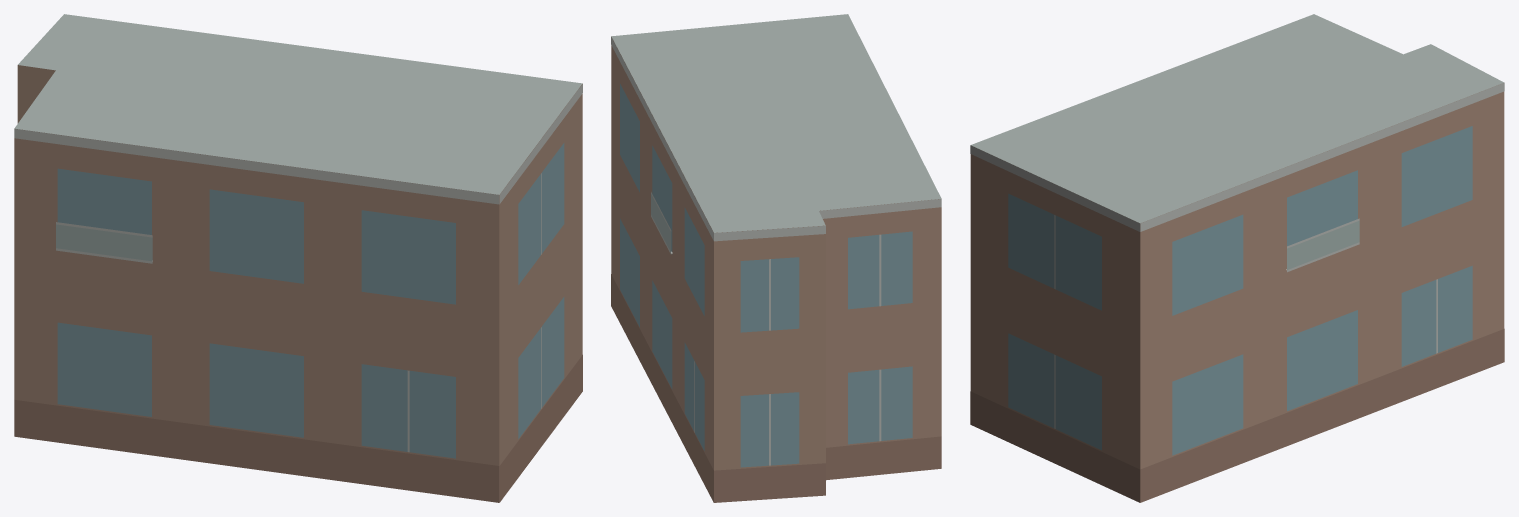
File: survey-upis-32975573.glb
3 renders of one model, left to right at view 1: azimuth 30°, elevation 25°; view 2: azimuth 150°, elevation 25°; view 3: azimuth 270°, elevation 25°, orthographic. The views are drawn at different scales.
Parts seen in each view (by area): view 1: survey-upis-32975573.tmp; view 2: survey-upis-32975573.tmp; view 3: survey-upis-32975573.tmp.
Part boxes in pixels (box(x1,y1,x2,y2)): survey-upis-32975573.tmp: box(14, 14, 582, 502); survey-upis-32975573.tmp: box(611, 14, 941, 502); survey-upis-32975573.tmp: box(970, 14, 1504, 502).
Bounding box in the file's own units: 12.54 × 7.8 × 13.51.
